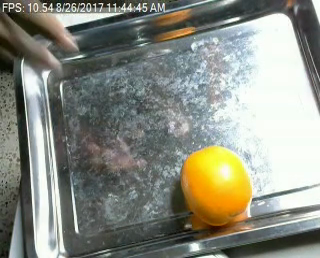Orange: (180, 144, 252, 225)
